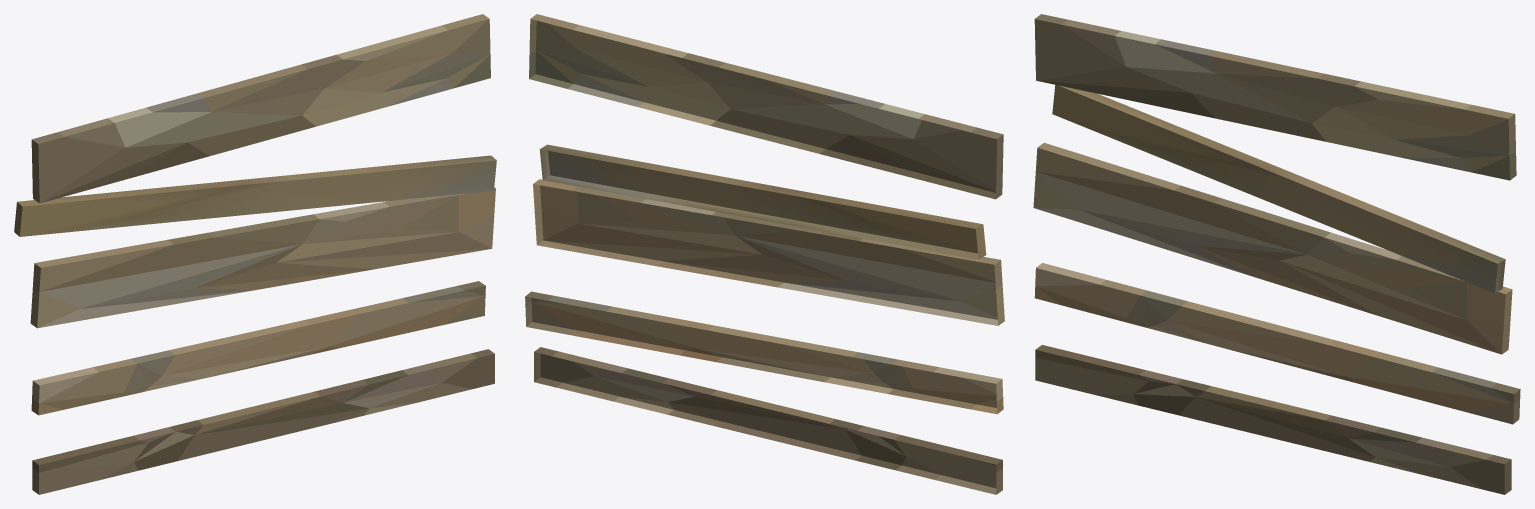
The model's file is Wall_UG-BoardsA.fbx.
The picture shows the model from 3 angles, left to right: view 1: azimuth 30°, elevation 25°; view 2: azimuth 150°, elevation 25°; view 3: azimuth 330°, elevation 25°; orthographic projection. The views are drawn at different scales.
Visible parts, largest first — view 1: Wall_UG-BoardsA; view 2: Wall_UG-BoardsA; view 3: Wall_UG-BoardsA.
Part boxes in pixels (box(x1,y1,x2,y2)): Wall_UG-BoardsA: box(14, 14, 496, 494); Wall_UG-BoardsA: box(525, 14, 1004, 494); Wall_UG-BoardsA: box(1033, 14, 1520, 494).
Bounding box in the file's own units: 402 × 303 × 43.58.
